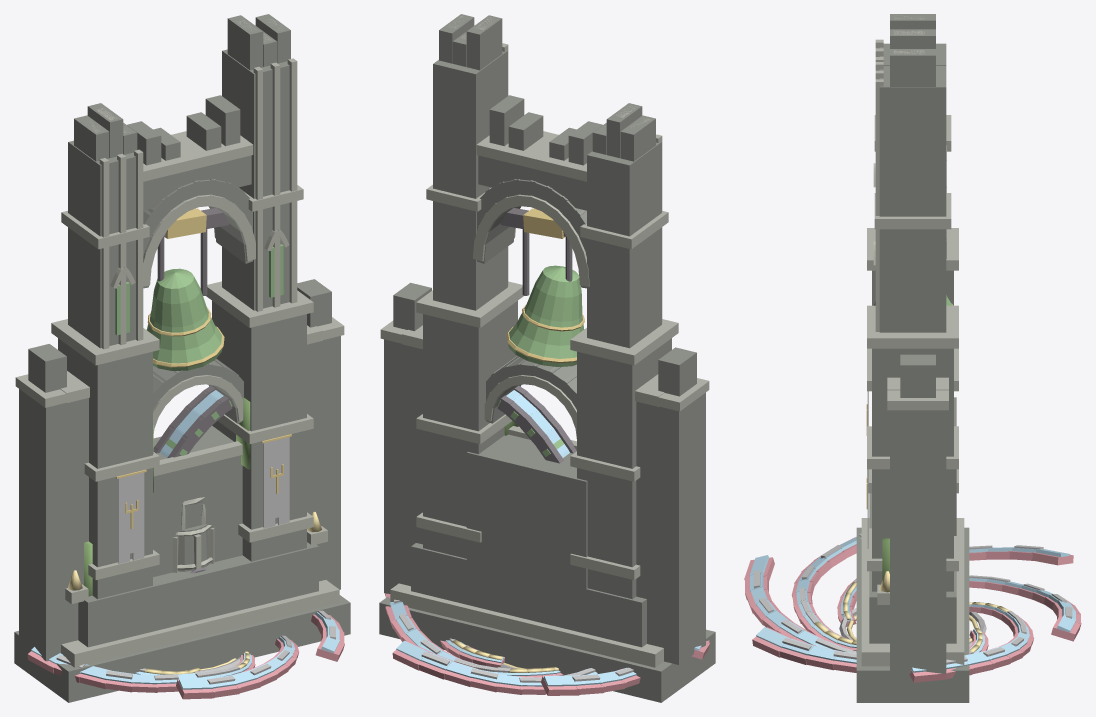
The model's file is SunkenF40Kit.fbx.
The picture shows the model from 3 angles, left to right: view 1: azimuth 30°, elevation 25°; view 2: azimuth 150°, elevation 25°; view 3: azimuth 270°, elevation 25°; orthographic projection. The views are drawn at different scales.
Parts seen in each view (by area): view 1: GreatTidebellTower__STONE, GreatTidebellTower__TRIM, GreatTidebellTower__ACCENT, GreatTidebellTower__SILK, MaelstromSwirlRing__ALT, MaelstromSwirlRing__CRYSTAL, GreatTidebellTower__GOLD, SeaDomeArchRib__METAL, MaelstromSwirlRing__SILK, ChainTowerRound__TRIM, GreatTidebellTower__METAL, GreatTidebellTower__MOSS (+2 smaller); view 2: GreatTidebellTower__STONE, GreatTidebellTower__TRIM, GreatTidebellTower__ACCENT, MaelstromSwirlRing__ALT, MaelstromSwirlRing__CRYSTAL, SeaDomeArchRib__METAL, GreatTidebellTower__GOLD, MaelstromSwirlRing__SILK, GreatTidebellTower__METAL, SeaDomeArchRib__CRYSTAL, MaelstromSwirlRing__GLOW; view 3: GreatTidebellTower__STONE, GreatTidebellTower__TRIM, MaelstromSwirlRing__ALT, MaelstromSwirlRing__CRYSTAL, MaelstromSwirlRing__SILK, MaelstromSwirlRing__GLOW.
Part boxes in pixels (<box>): GreatTidebellTower__STONE: <box>14,14,350,702</box>; GreatTidebellTower__TRIM: <box>15,19,344,667</box>; GreatTidebellTower__ACCENT: <box>115,244,283,370</box>; GreatTidebellTower__SILK: <box>118,437,289,563</box>; MaelstromSwirlRing__ALT: <box>27,614,344,699</box>; MaelstromSwirlRing__CRYSTAL: <box>31,612,339,689</box>; GreatTidebellTower__GOLD: <box>116,208,291,529</box>; SeaDomeArchRib__METAL: <box>153,385,232,458</box>; MaelstromSwirlRing__SILK: <box>56,610,335,684</box>; ChainTowerRound__TRIM: <box>172,497,214,572</box>; GreatTidebellTower__METAL: <box>157,208,229,295</box>; GreatTidebellTower__MOSS: <box>84,397,250,596</box>; GreatTidebellTower__STONE: <box>379,14,715,702</box>; GreatTidebellTower__TRIM: <box>380,16,709,667</box>; GreatTidebellTower__ACCENT: <box>508,265,584,366</box>; MaelstromSwirlRing__ALT: <box>385,593,709,695</box>; MaelstromSwirlRing__CRYSTAL: <box>390,601,701,686</box>; SeaDomeArchRib__METAL: <box>497,385,576,463</box>; GreatTidebellTower__GOLD: <box>506,208,584,363</box>; MaelstromSwirlRing__SILK: <box>394,599,633,682</box>; GreatTidebellTower__METAL: <box>500,208,572,295</box>; SeaDomeArchRib__CRYSTAL: <box>506,390,569,457</box>; MaelstromSwirlRing__GLOW: <box>452,640,558,672</box>; GreatTidebellTower__STONE: <box>856,14,969,702</box>; GreatTidebellTower__TRIM: <box>861,15,964,666</box>; MaelstromSwirlRing__ALT: <box>744,537,1081,682</box>; MaelstromSwirlRing__CRYSTAL: <box>749,537,1076,672</box>; MaelstromSwirlRing__SILK: <box>753,533,1072,664</box>; MaelstromSwirlRing__GLOW: <box>814,582,1010,653</box>.
Bounding box in the file's own units: 146 × 273 × 132.
